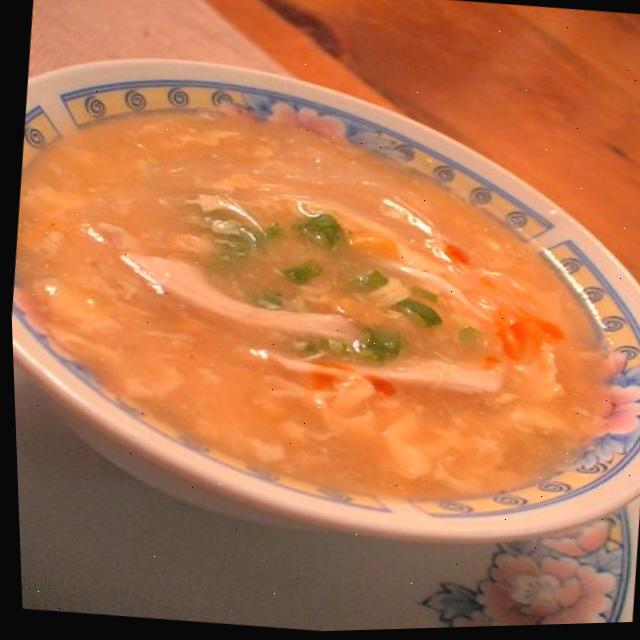汤锅炖物: (1, 25, 640, 578)
